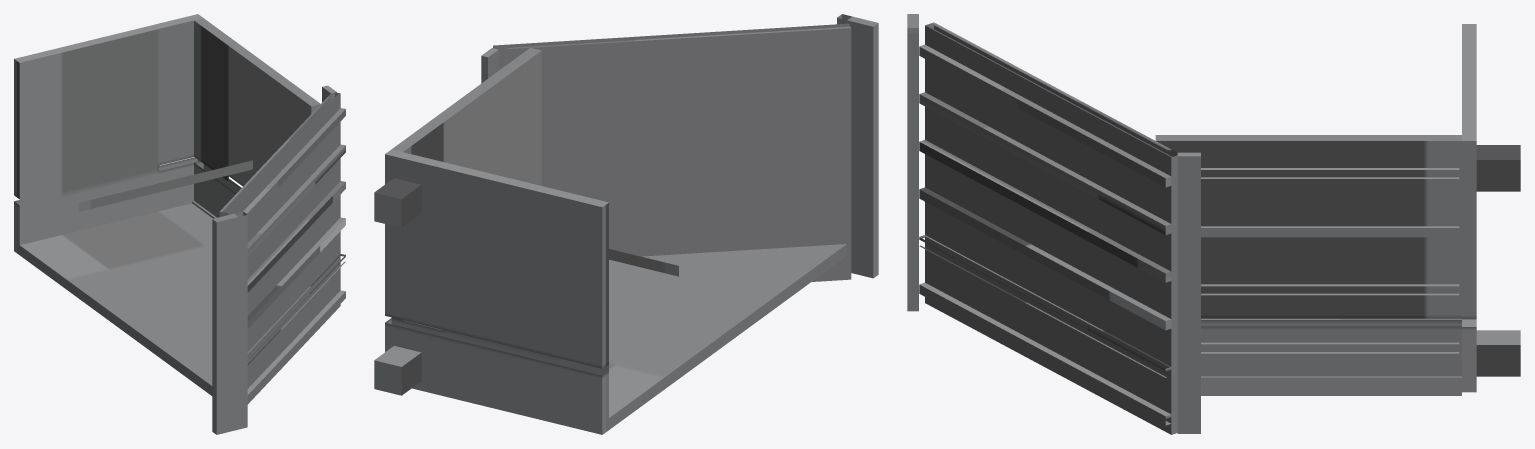
3 views of the same model, side by side, from view 1: azimuth 30°, elevation 25°; view 2: azimuth 150°, elevation 25°; view 3: azimuth 270°, elevation 25° (orthographic). The views are drawn at different scales.
Size of the model in its own units: 1.18 by 1.05 by 2.1.
